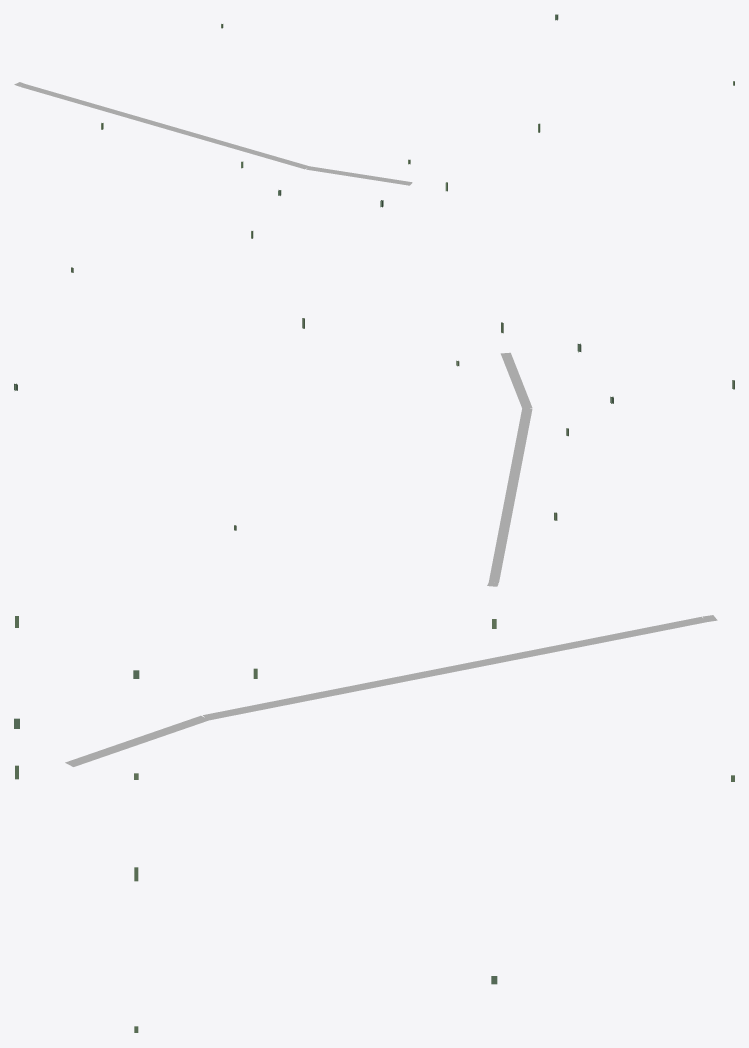
3 renders of one model, top to bottom at view 1: azimuth 30°, elevation 25°; view 2: azimuth 150°, elevation 25°; view 3: azimuth 270°, elevation 25°, orthographic. The views are drawn at different scales.
Size of the model in its own units: 499 by 9.42 by 362.
